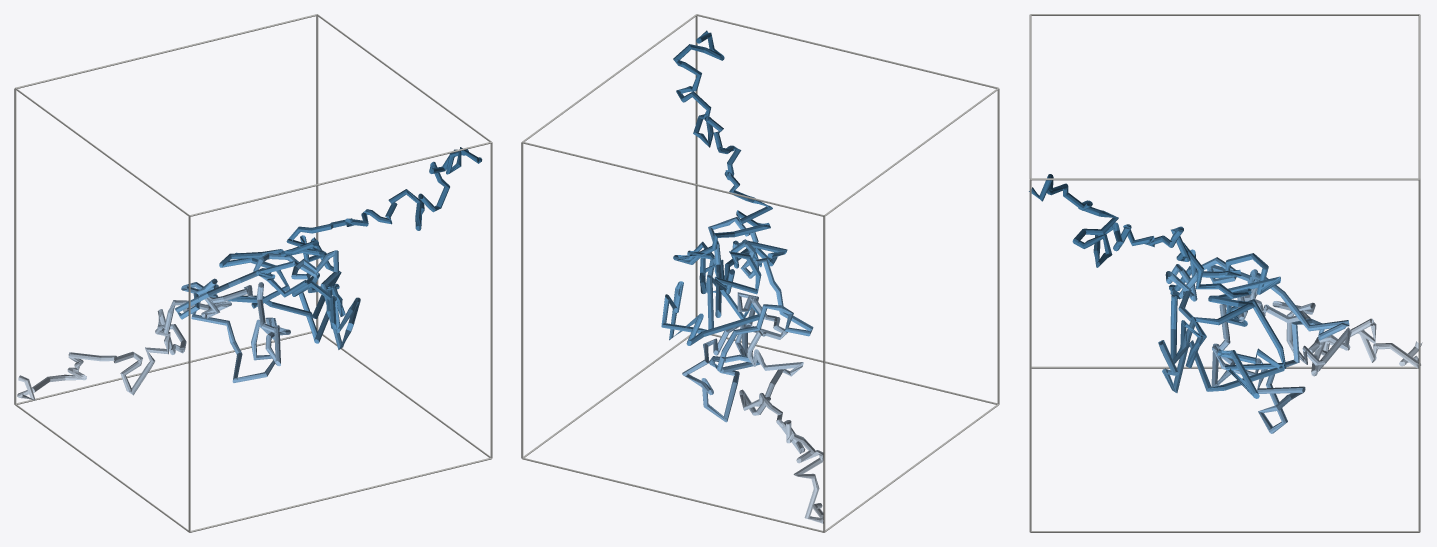
3 renders of one model, left to right at view 1: azimuth 30°, elevation 25°; view 2: azimuth 150°, elevation 25°; view 3: azimuth 270°, elevation 25°, orthographic. The views are drawn at different scales.
Parts seen in each view (by area): view 1: geometry_0, geometry_1; view 2: geometry_0, geometry_1; view 3: geometry_0, geometry_1.
Boxes of the visible parts, x1,y1,x2,y2 form: geometry_0: (17,147,482,400); geometry_1: (14,14,492,532); geometry_0: (661,30,823,523); geometry_1: (521,14,999,532); geometry_0: (1029,174,1422,433); geometry_1: (1029,14,1420,532).
Bounding box in the file's own units: 0.3016 × 0.3014 × 0.3041.
